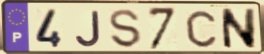4: (34, 8, 67, 51)
7: (147, 6, 179, 52)
C: (184, 9, 218, 49)
J: (73, 10, 103, 49)
N: (219, 8, 257, 51)
S: (108, 8, 143, 50)
